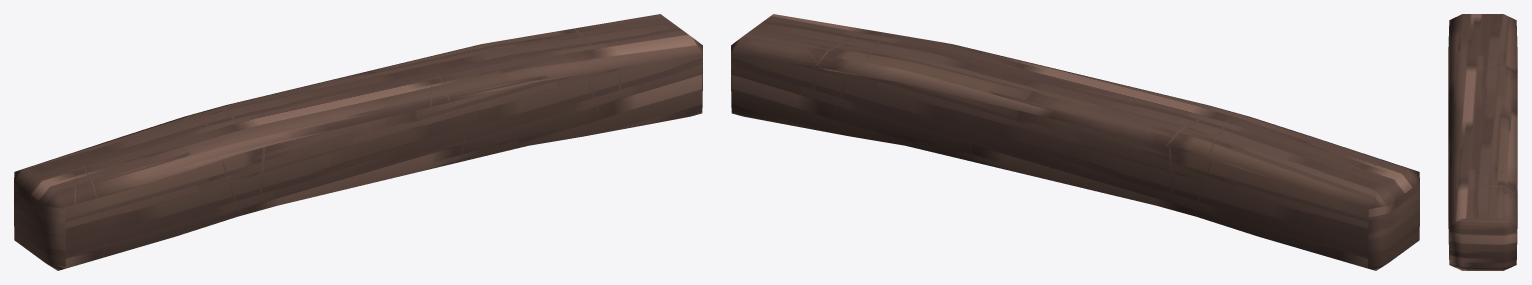
Rendered from SM_beam_02.glb.
The picture shows the model from 3 angles, left to right: view 1: azimuth 30°, elevation 25°; view 2: azimuth 150°, elevation 25°; view 3: azimuth 270°, elevation 25°; orthographic projection. The views are drawn at different scales.
Visible parts, largest first — view 1: SM_beam_02; view 2: SM_beam_02; view 3: SM_beam_02.
Part boxes in pixels (bbox=[...]): SM_beam_02: bbox=[14, 14, 702, 270]; SM_beam_02: bbox=[731, 14, 1419, 270]; SM_beam_02: bbox=[1448, 14, 1517, 270].
Size of the model in its own units: 7.33 by 0.9987 by 1.01.
Materials: 1 (1 with a texture image).
